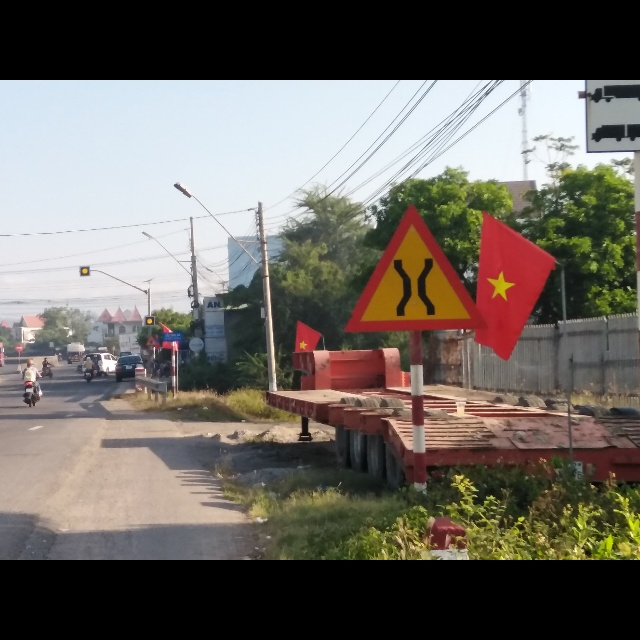Cầu hẹp: (341, 195, 488, 331)
